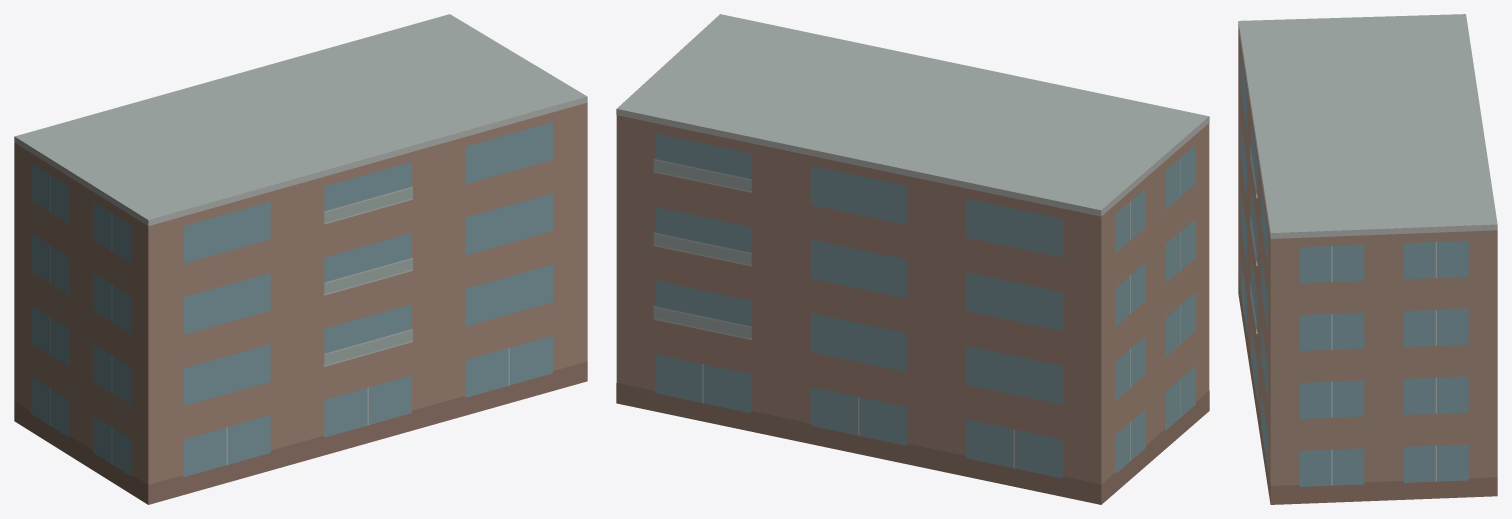
File: survey-upis-32993620.glb
3 views of the same model, side by side, from view 1: azimuth 30°, elevation 25°; view 2: azimuth 150°, elevation 25°; view 3: azimuth 270°, elevation 25° (orthographic). The views are drawn at different scales.
Parts seen in each view (by area): view 1: survey-upis-32993620.tmp; view 2: survey-upis-32993620.tmp; view 3: survey-upis-32993620.tmp.
Part boxes in pixels (x1,y1,x2,y2): survey-upis-32993620.tmp: (14,14,587,504); survey-upis-32993620.tmp: (616,14,1209,504); survey-upis-32993620.tmp: (1238,14,1497,504).
Size of the model in its own units: 19.91 by 11.5 by 9.96.
